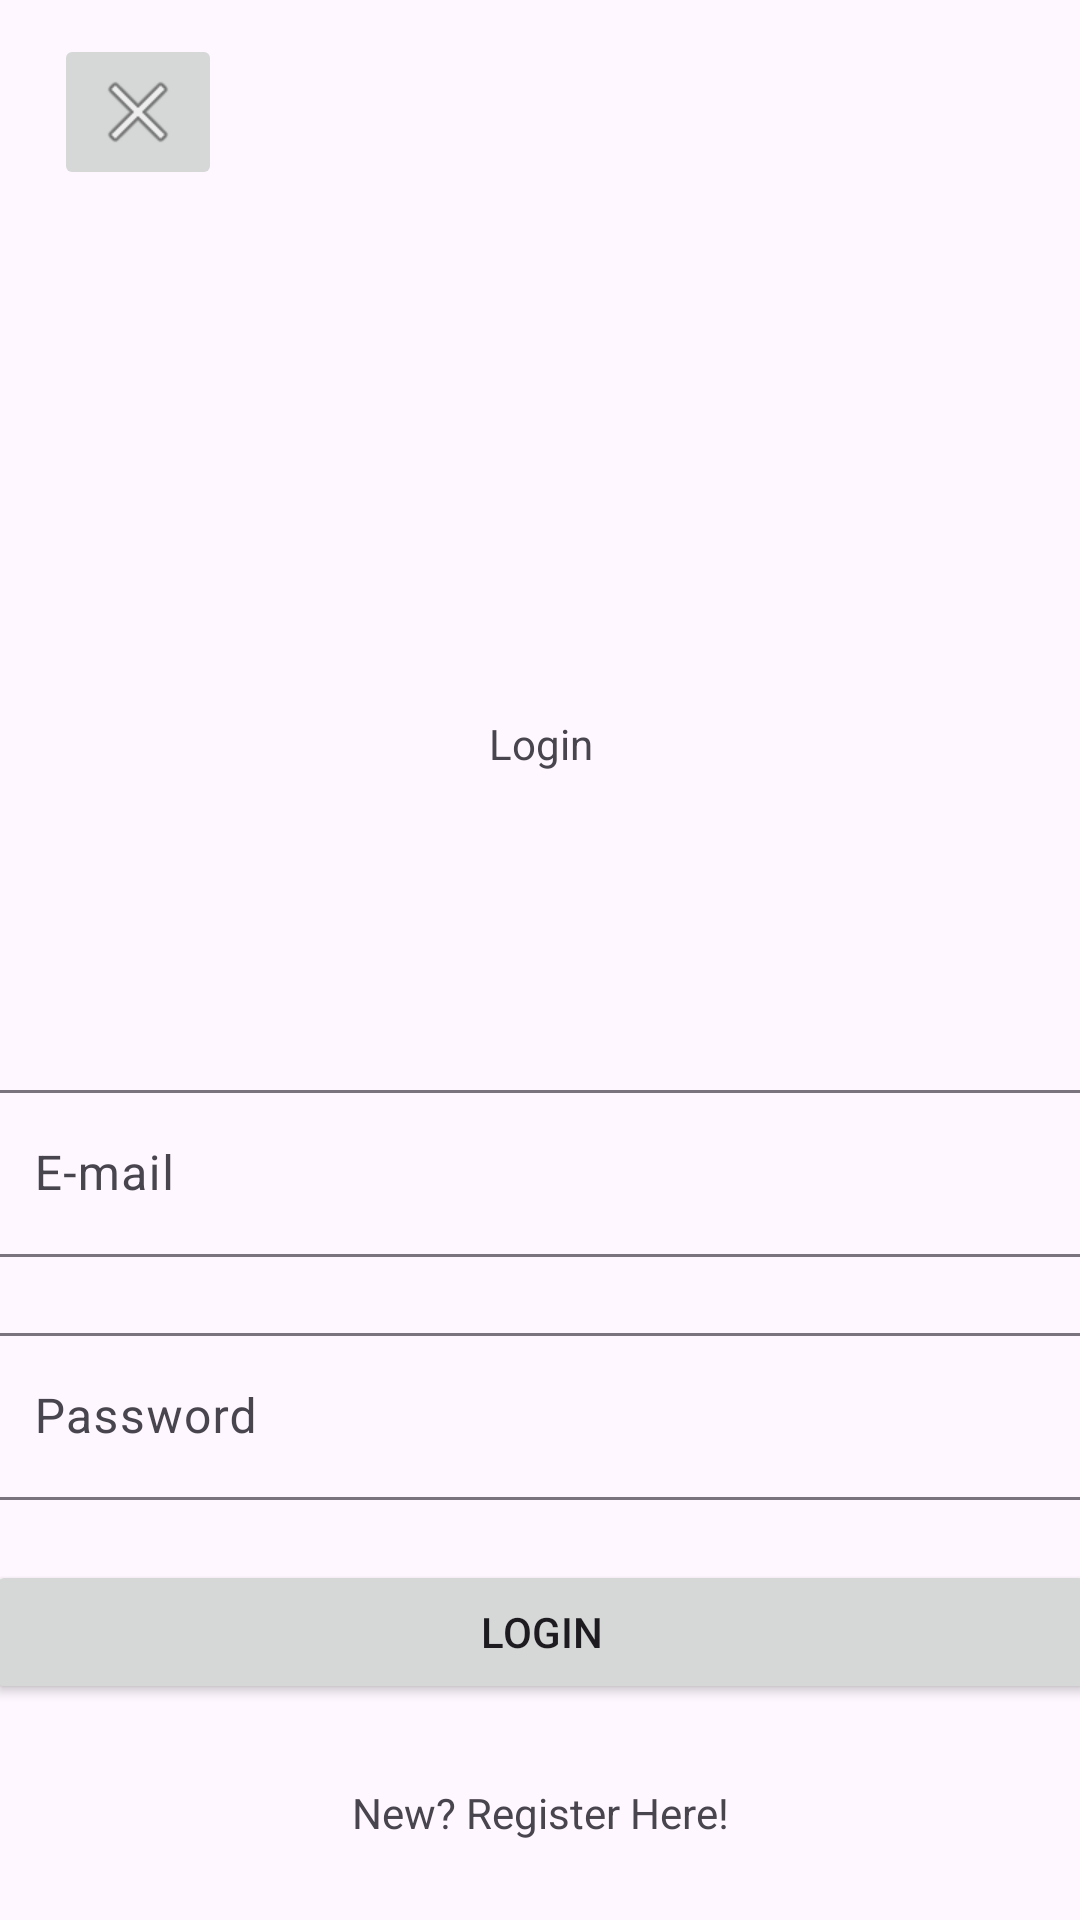

Icon click points for this 1080x1920 phone screenshot, format point (x, y):
close clear cancel: point (138, 112)
